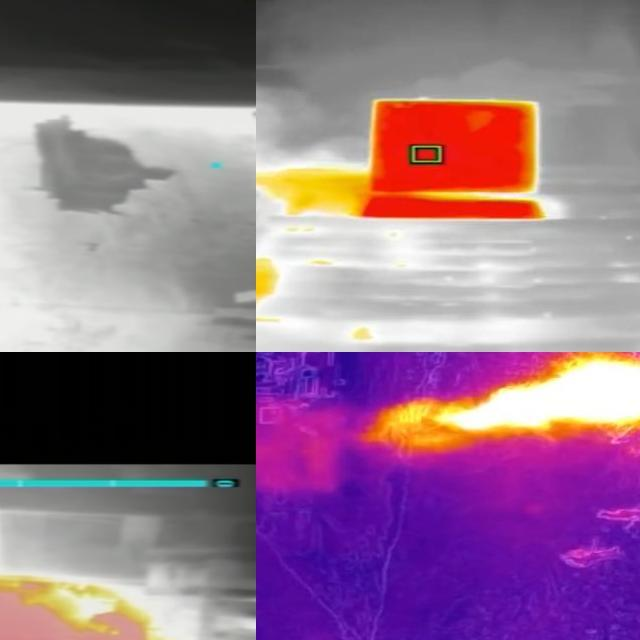fire: (1, 494, 193, 640), (368, 353, 640, 446), (264, 166, 376, 220)
